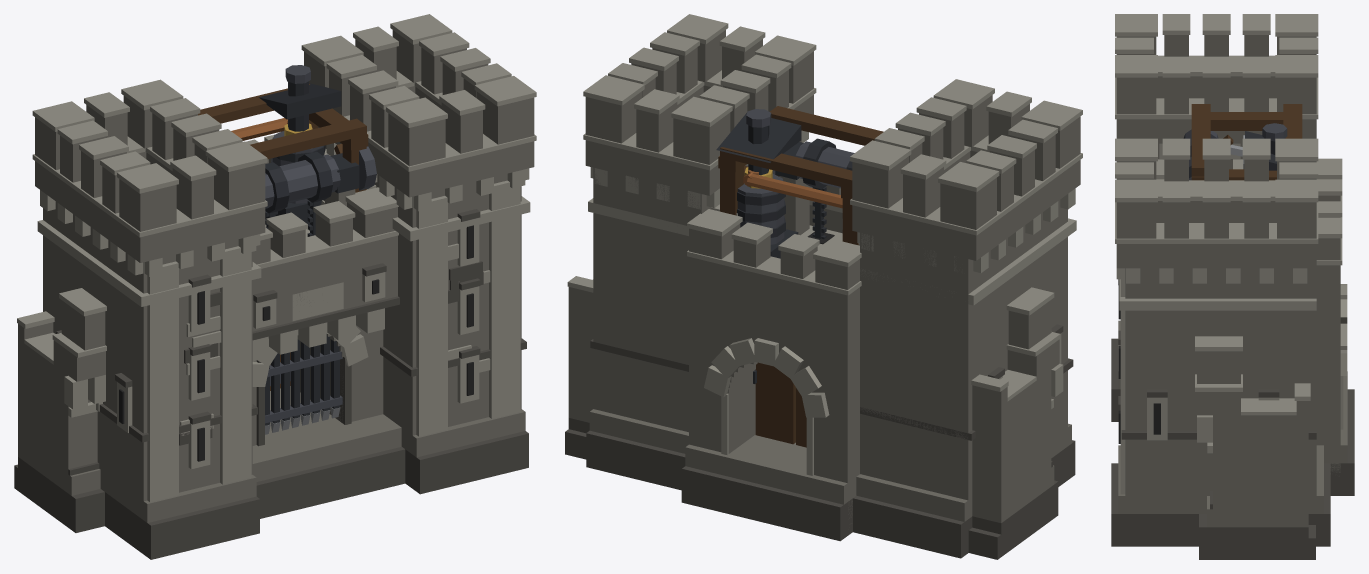
The model's file is gatehouse.glb.
3 renders of one model, left to right at view 1: azimuth 30°, elevation 25°; view 2: azimuth 150°, elevation 25°; view 3: azimuth 270°, elevation 25°, orthographic. The views are drawn at different scales.
Parts seen in each view (by area): view 1: stone, stone_light, stone_dark, iron_dark, iron, timber, soot, steel, copper; view 2: stone, stone_light, stone_dark, timber, iron_dark, iron, copper; view 3: stone, stone_light, stone_dark, timber, iron, soot, iron_dark.
Boxes of the visible parts, bbox=[...] form: stone: bbox=[18, 30, 534, 522]; stone_light: bbox=[17, 14, 536, 501]; stone_dark: bbox=[14, 209, 528, 559]; iron_dark: bbox=[259, 81, 359, 425]; iron: bbox=[265, 65, 376, 423]; timber: bbox=[198, 84, 368, 390]; soot: bbox=[119, 225, 473, 461]; steel: bbox=[265, 407, 340, 434]; copper: bbox=[231, 118, 287, 140]; stone: bbox=[568, 30, 1080, 523]; stone_light: bbox=[567, 14, 1082, 475]; stone_dark: bbox=[565, 324, 1075, 559]; timber: bbox=[718, 106, 883, 447]; iron_dark: bbox=[716, 112, 852, 383]; iron: bbox=[737, 109, 854, 244]; copper: bbox=[743, 170, 842, 208]; stone: bbox=[1116, 35, 1347, 527]; stone_light: bbox=[1115, 14, 1347, 494]; stone_dark: bbox=[1111, 279, 1354, 559]; timber: bbox=[1191, 104, 1302, 180]; iron: bbox=[1183, 123, 1287, 180]; soot: bbox=[1118, 281, 1160, 443]; iron_dark: bbox=[1189, 131, 1276, 178].
Size of the model in its own units: 122 by 97.7 by 61.
